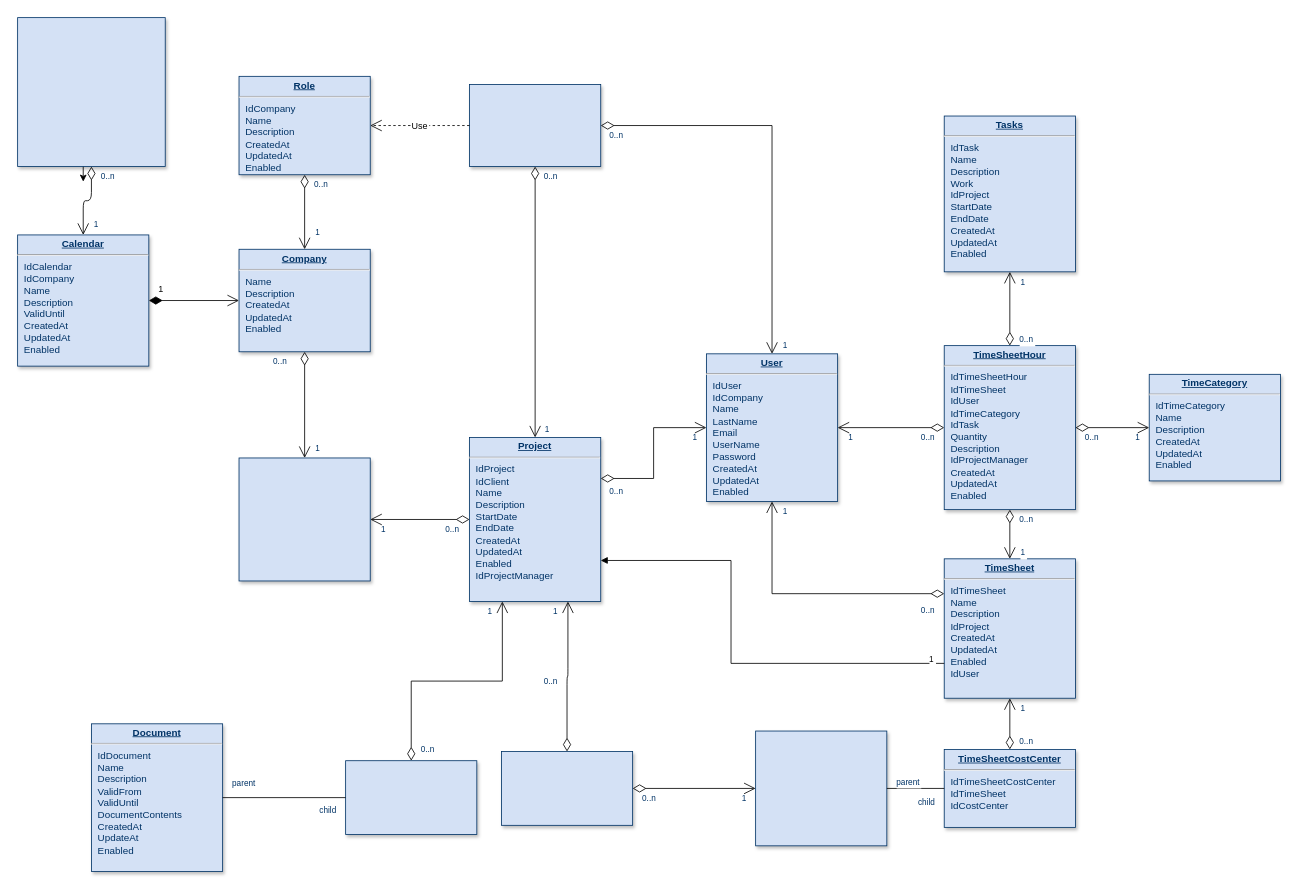
Some shapes in this 1300 by 892 pixel diagram are drawn without their labels. The centre of each missing label's shape, as x and y in pixels:
Client IdClient IdCompany Name Description CreatedAt UpdatedAt Enabled: the point at 305,520
CostCenter IdCostCenter Name Description CreatedAt UpdatedAt Enabled: the point at 822,789
ProjectCostCenter IdProjectCostCenter IdProject IdCostCenter: the point at 567,789
ProjectDocument IdProjectDocument IdProject IdDocument: the point at 412,798
User ID Full_Name Email Password Gender Phone_Number Avatar Remember_Token Role: the point at 92,93
UserProjectRole IdUserProjectRole IdRole IdProject IdUser: the point at 535,126
